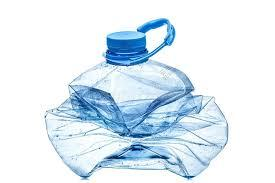plastic: (45, 33, 226, 180)
